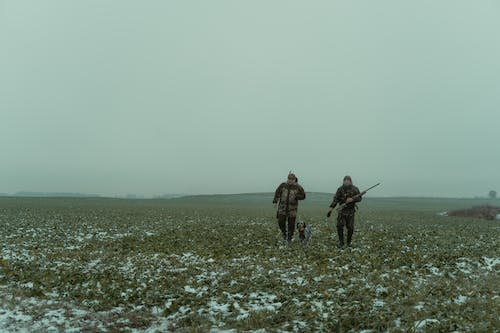gun: (334, 181, 381, 214), (275, 168, 292, 220)
